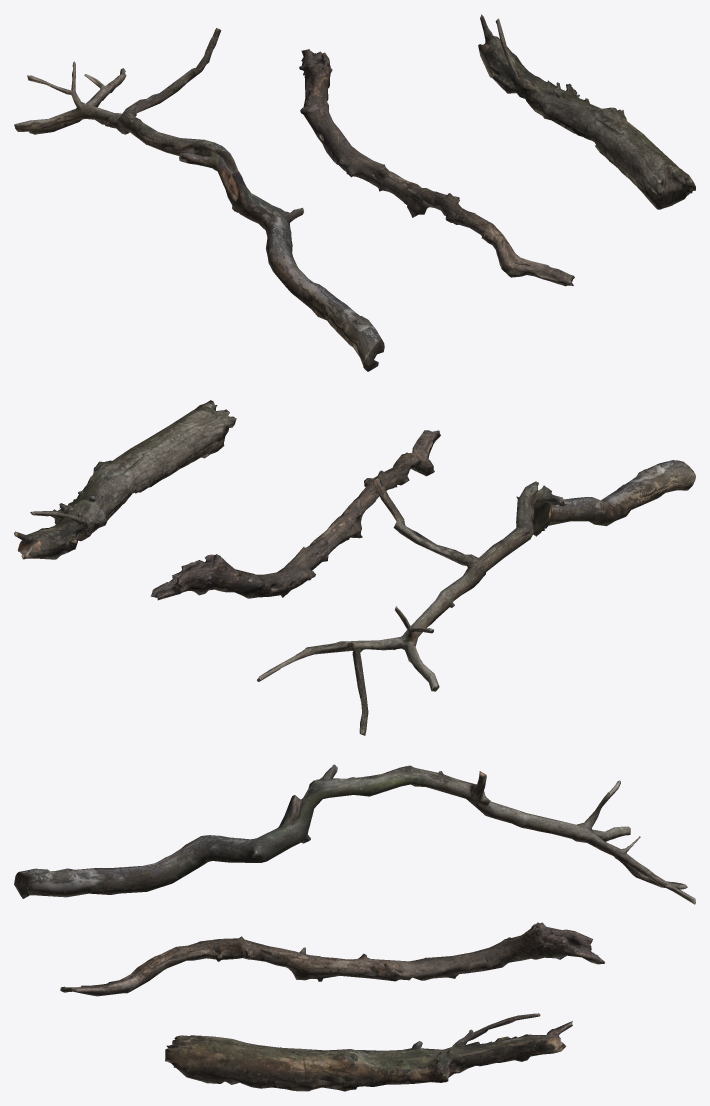
Rendered from dry_branches_medium_01.glb.
3 renders of one model, top to bottom at view 1: azimuth 30°, elevation 25°; view 2: azimuth 150°, elevation 25°; view 3: azimuth 270°, elevation 25°, orthographic. The views are drawn at different scales.
Visible parts, largest first — view 1: dry_branches_medium_01_a, dry_branches_medium_01_c, dry_branches_medium_01_b; view 2: dry_branches_medium_01_a, dry_branches_medium_01_c, dry_branches_medium_01_b; view 3: dry_branches_medium_01_a, dry_branches_medium_01_c, dry_branches_medium_01_b.
Boxes of the visible parts, left/top/right/bottom form: dry_branches_medium_01_a: left=14, top=28, right=384, bottom=371; dry_branches_medium_01_c: left=478, top=14, right=695, bottom=209; dry_branches_medium_01_b: left=299, top=49, right=574, bottom=286; dry_branches_medium_01_a: left=257, top=460, right=695, bottom=735; dry_branches_medium_01_c: left=14, top=400, right=236, bottom=559; dry_branches_medium_01_b: left=150, top=430, right=440, bottom=600; dry_branches_medium_01_a: left=14, top=764, right=695, bottom=904; dry_branches_medium_01_c: left=165, top=1013, right=572, bottom=1091; dry_branches_medium_01_b: left=60, top=922, right=604, bottom=996.
Bounding box in the file's own units: 1.06 × 0.341 × 1.3.
1 material, 1 textured.
